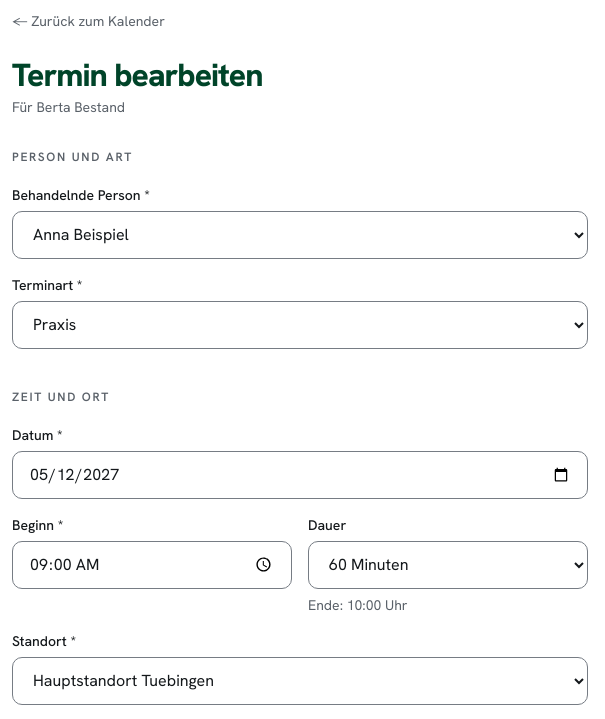
Test case: EditAppointmentPage › zieht das Ende beim Verschieben mit und laesst die Laenge unangetastet
Replace the text in the time field labelled "Beginn *" with "14:30": [152, 565] box [12,541,292,589]
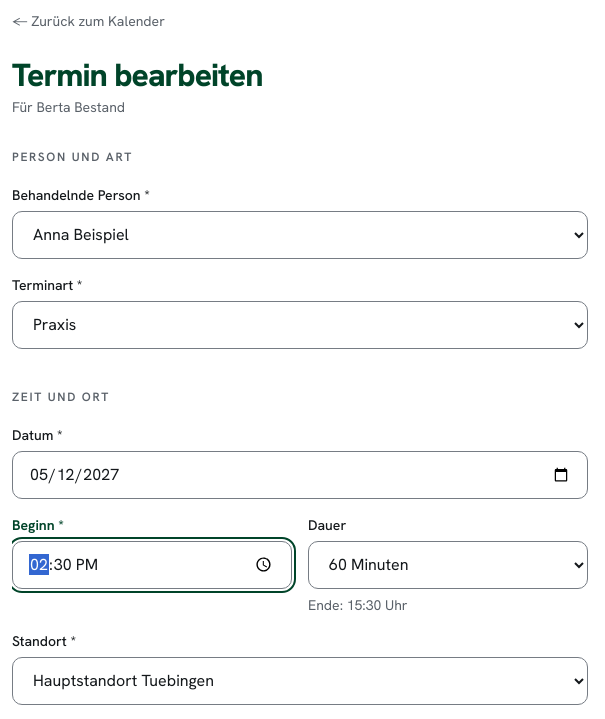
Expected: the text "Ende: 15:30 Uhr" is shown, [308,596,408,614]
